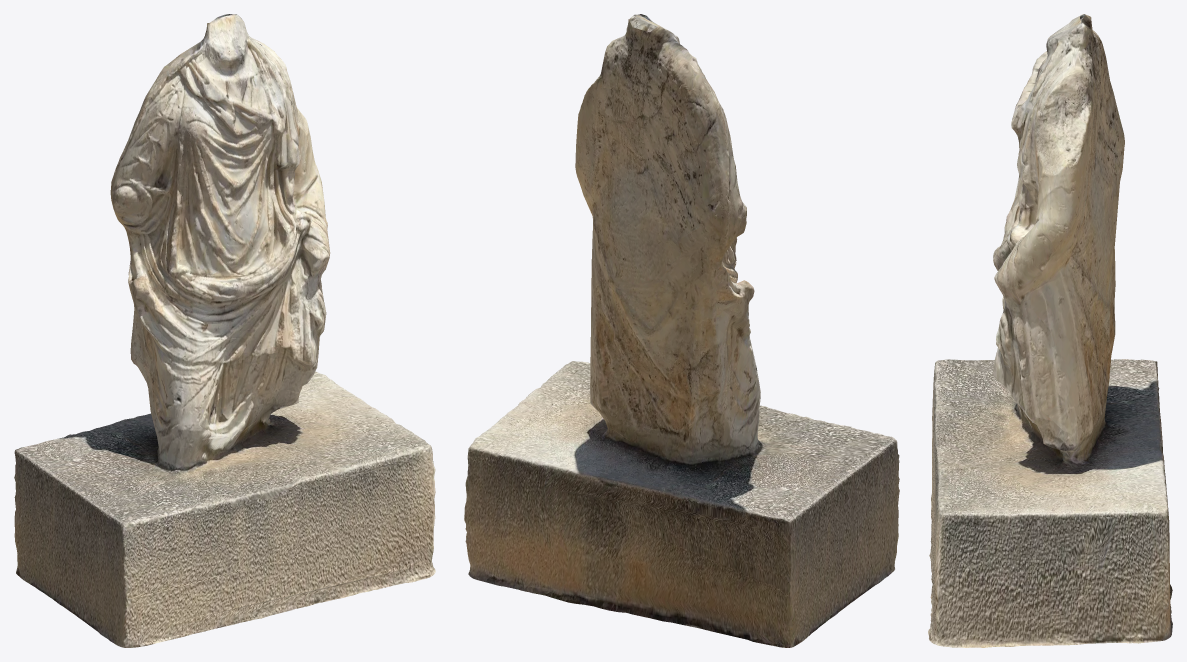
The model's file is headless-draped-statue-byrsa-hill-cart.glb.
3 renders of one model, left to right at view 1: azimuth 30°, elevation 25°; view 2: azimuth 150°, elevation 25°; view 3: azimuth 270°, elevation 25°, orthographic. The views are drawn at different scales.
Visible parts, largest first — view 1: Object_3; view 2: Object_3; view 3: Object_3.
Part boxes in pixels (box(x1,y1,x2,y2)): Object_3: box(14, 14, 435, 647); Object_3: box(464, 14, 899, 647); Object_3: box(928, 14, 1172, 647).
Size of the model in its own units: 1.08 by 1.73 by 0.6852.
Materials: 1 (1 with a texture image).
